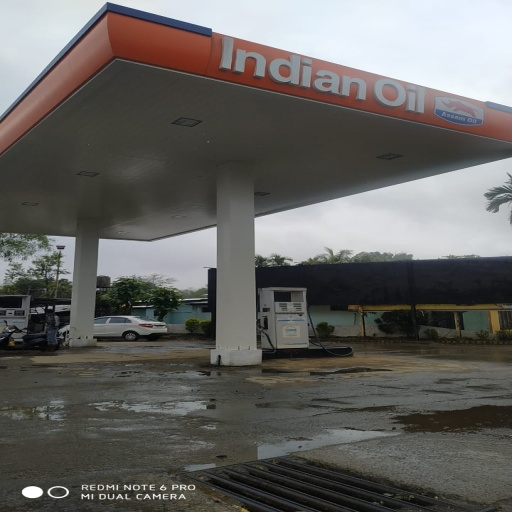roof: (4, 2, 507, 238)
